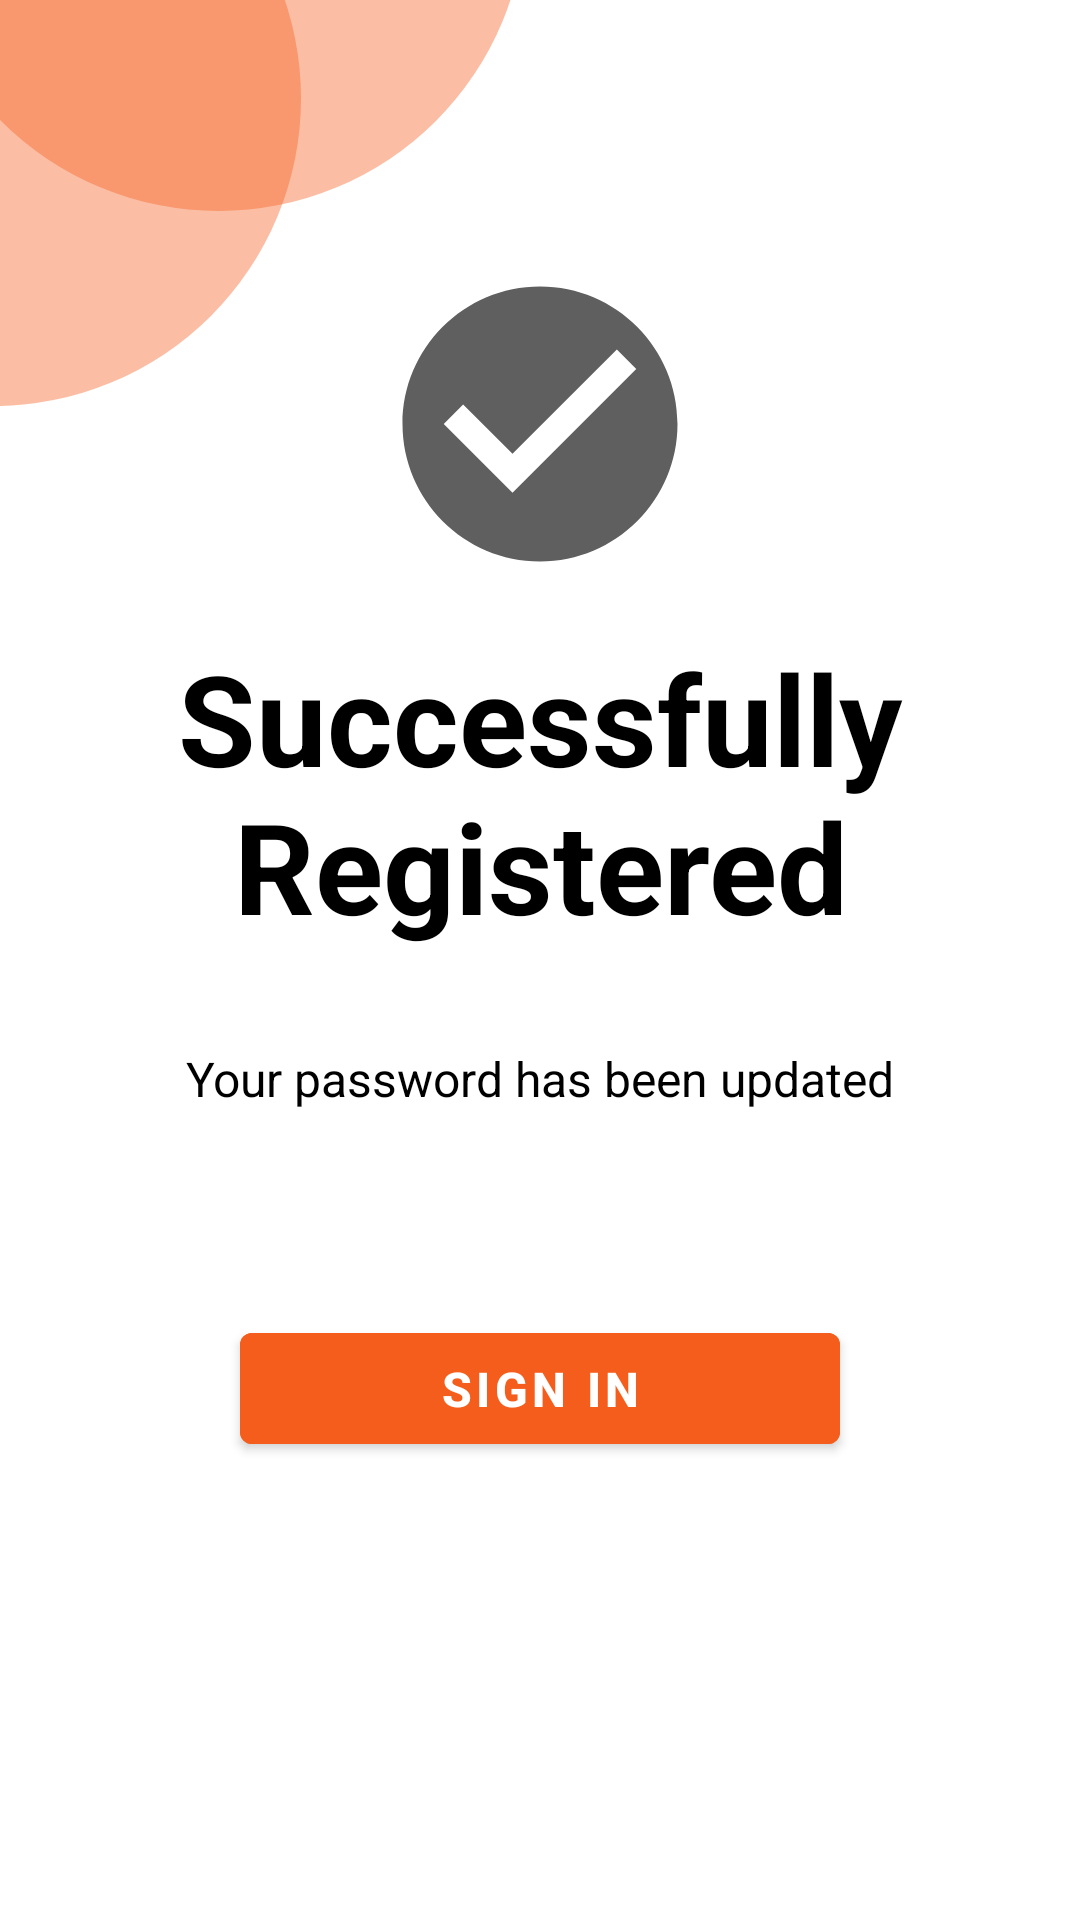

Point at icon controls on the screen. Image size 1080 × 1920, points as (x=x, y=y).
check circle: (x=540, y=424)
